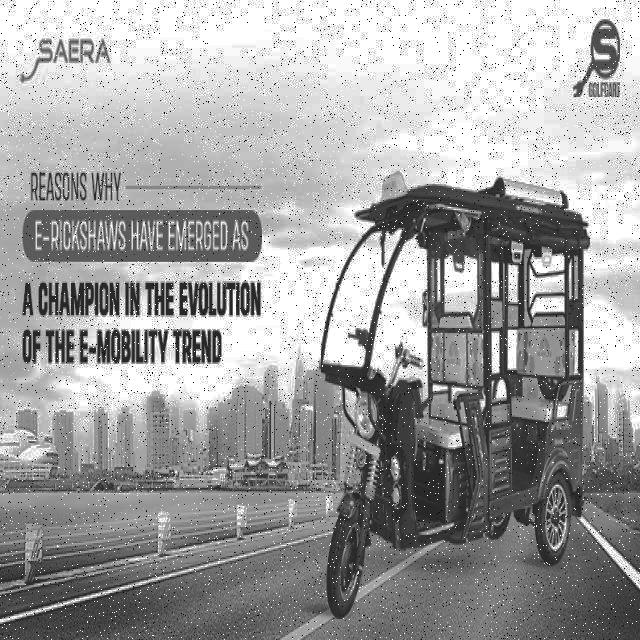Toto: (322, 175, 592, 627)
